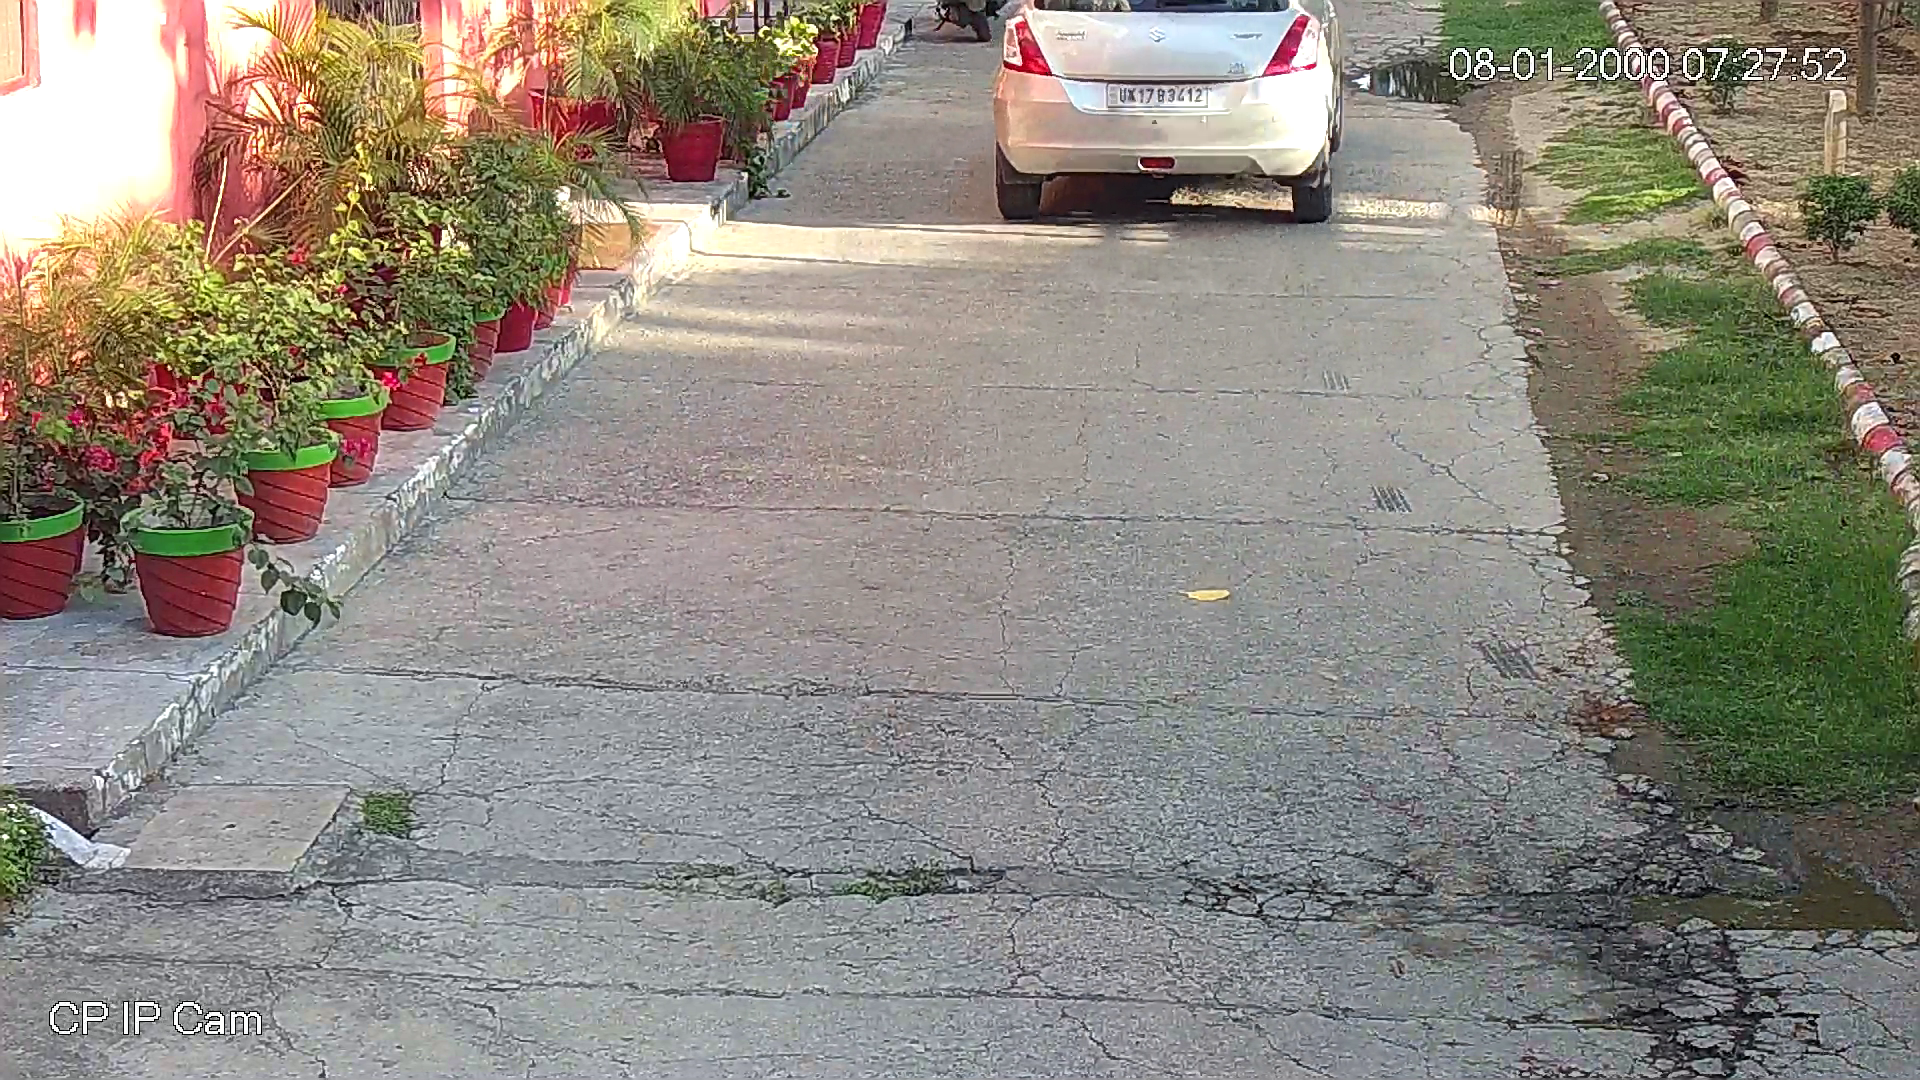plate: (1102, 78, 1212, 108)
